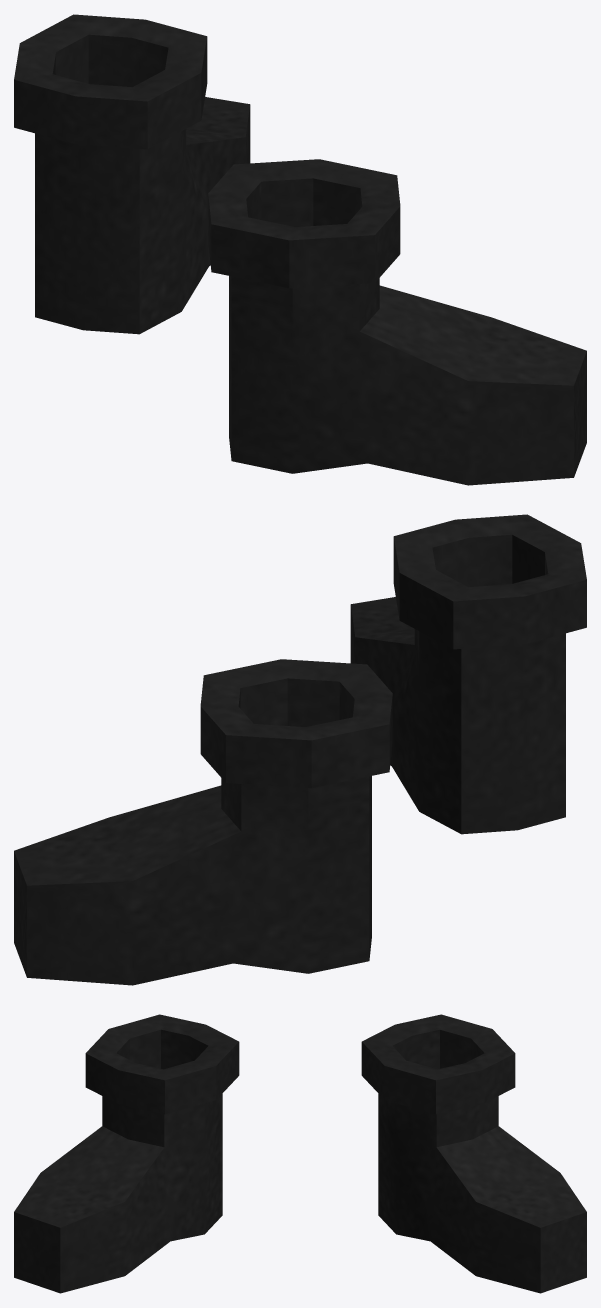
File: ayakkabi.fbx
The picture shows the model from 3 angles, top to bottom: view 1: azimuth 30°, elevation 25°; view 2: azimuth 150°, elevation 25°; view 3: azimuth 270°, elevation 25°; orthographic projection. The views are drawn at different scales.
Visible parts, largest first — view 1: sag ayakkabi; view 2: sag ayakkabi; view 3: sag ayakkabi.
Boxes of the visible parts, x1=… form: sag ayakkabi: x1=14, y1=14, x2=586, y2=485; sag ayakkabi: x1=14, y1=514, x2=586, y2=985; sag ayakkabi: x1=14, y1=1014, x2=586, y2=1293.
Size of the model in its own units: 81.98 by 62.03 by 187.
